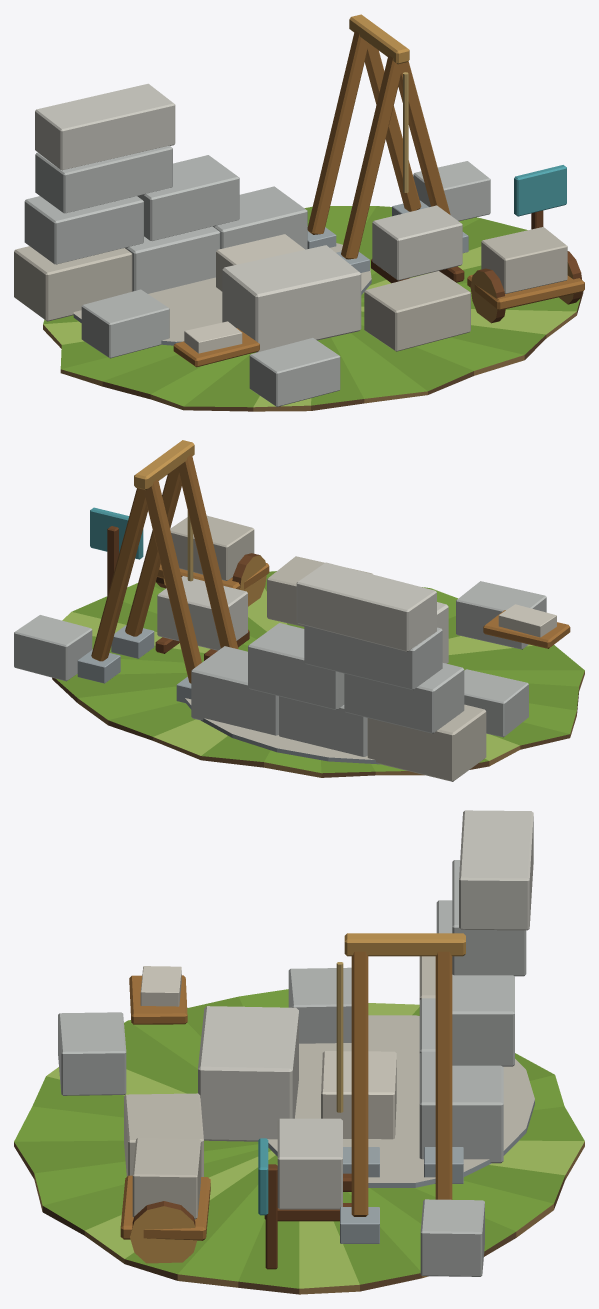
3 views of the same model, one above another, from view 1: azimuth 30°, elevation 25°; view 2: azimuth 150°, elevation 25°; view 3: azimuth 270°, elevation 25° (orthographic). The views are drawn at different scales.
Visible parts, largest first — view 1: WK_StoneQuarry_LOD2_Compact.001; view 2: WK_StoneQuarry_LOD2_Compact.001; view 3: WK_StoneQuarry_LOD2_Compact.001.
Boxes of the visible parts, x1,y1,x2,y2 form: WK_StoneQuarry_LOD2_Compact.001: (14,14,584,411); WK_StoneQuarry_LOD2_Compact.001: (14,440,584,781); WK_StoneQuarry_LOD2_Compact.001: (14,810,584,1294).
Bounding box in the file's own units: 12.95 × 5.52 × 10.34.
